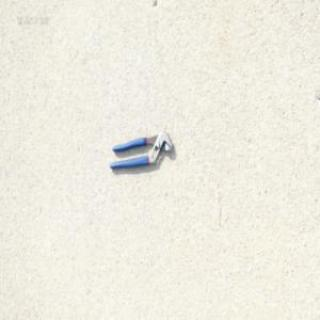Pliertrack_idkeyframe: (108, 129, 173, 170)
